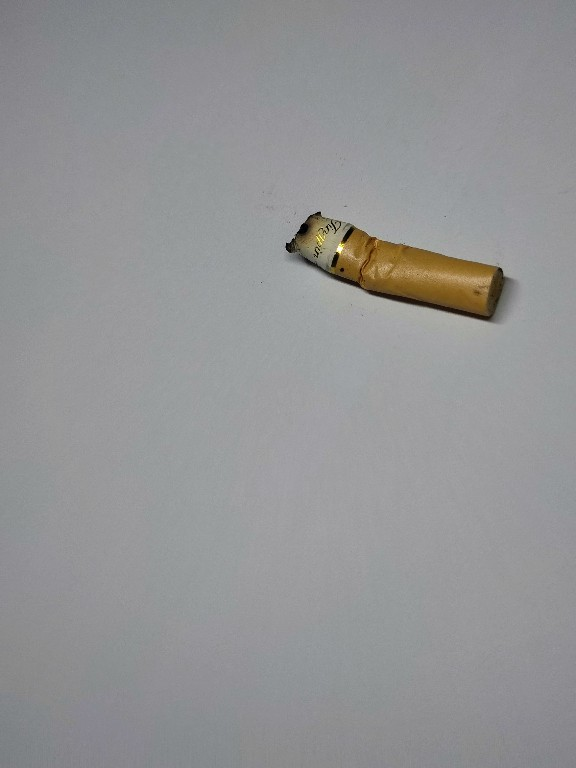cigarette: (279, 206, 509, 326)
